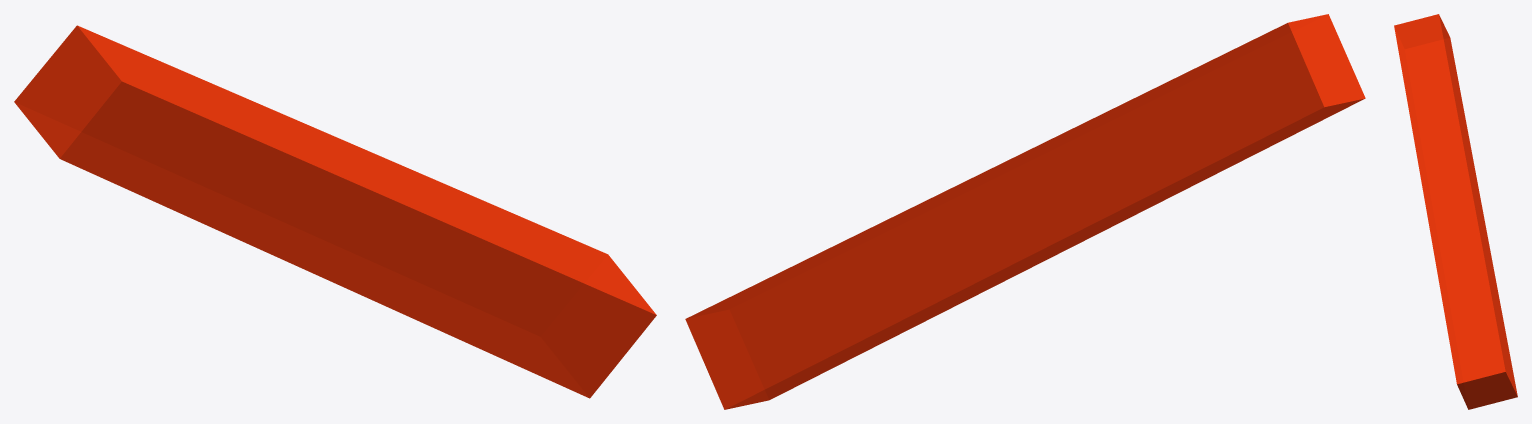
File: Event_421115418_EBrechit_49.fbx
3 views of the same model, side by side, from view 1: azimuth 30°, elevation 25°; view 2: azimuth 150°, elevation 25°; view 3: azimuth 270°, elevation 25° (orthographic). The views are drawn at different scales.
Visible parts, largest first — view 1: Model; view 2: Model; view 3: Model.
Part boxes in pixels (x1,y1,x2,y2): Model: (14, 25, 656, 398); Model: (685, 14, 1365, 409); Model: (1394, 14, 1517, 409).
Size of the model in its own units: 0.4442 by 0.3446 by 0.1468.
